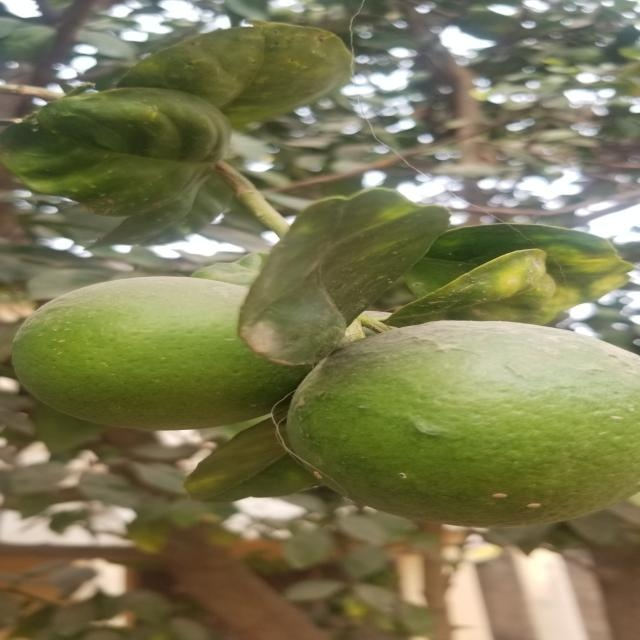agrume: (0, 223, 323, 457), (300, 311, 637, 530)
